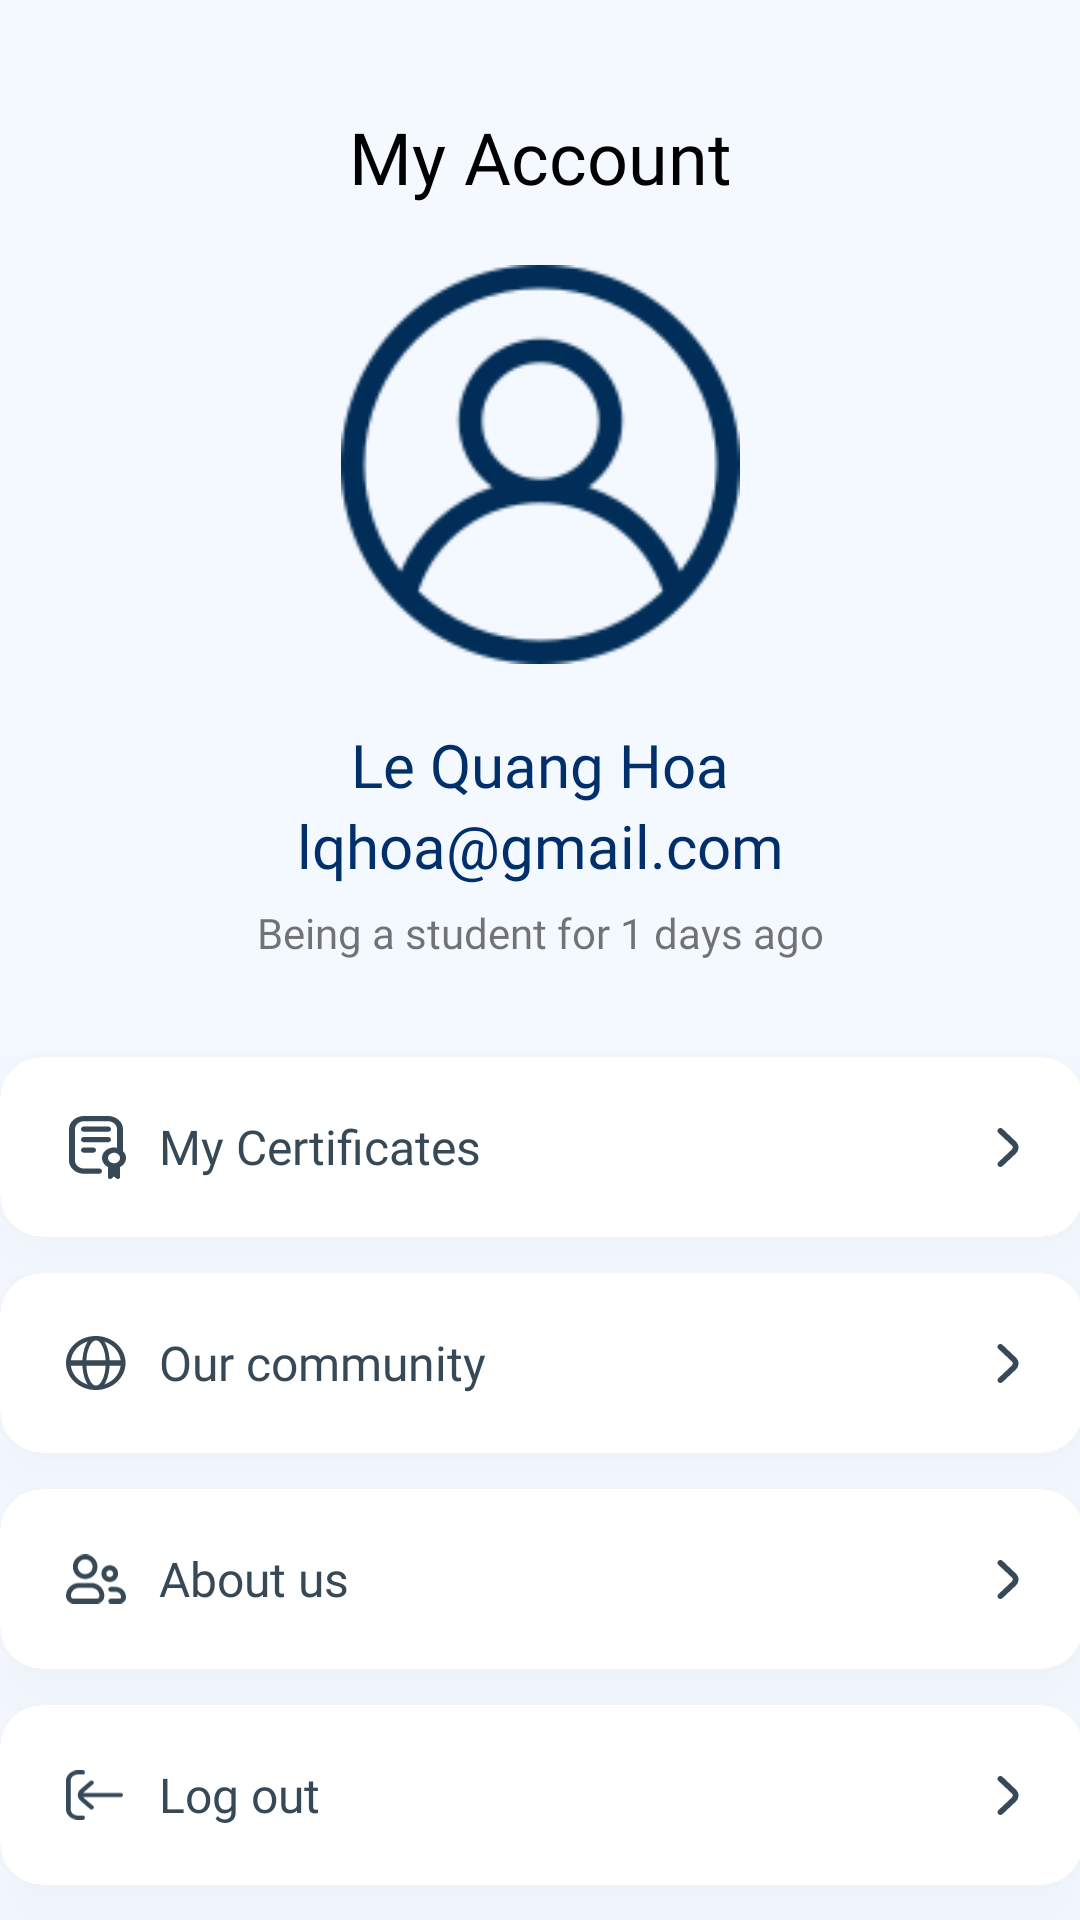

Icon bounding boxes for this 1080 x 1920 phone screenshot, format region(x1, y1, x2, y2):
certification: region(69, 1116, 126, 1179)
redirect: region(997, 1128, 1019, 1167), region(997, 1344, 1019, 1383), region(997, 1560, 1019, 1599), region(997, 1776, 1019, 1815)
